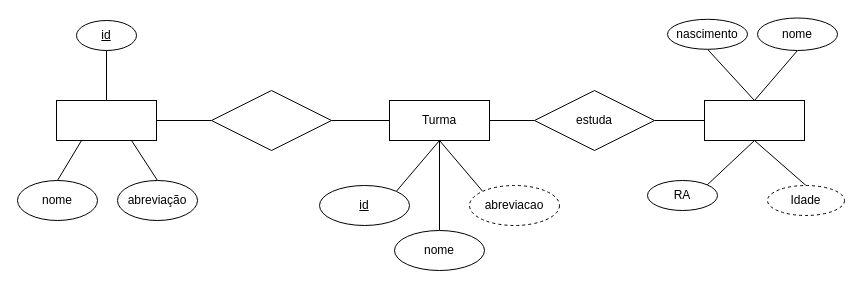
The diagram is 862 pixels wide and 288 high, and some of its shapes have lost their labels. The shapes that lost their labels are listed below. From the top down, each one's box as (x1, y1, x2, y2) in pixels, then its label:
(56, 100, 156, 140): Professor
(210, 90, 332, 150): ministra
(704, 100, 804, 140): Aluno
